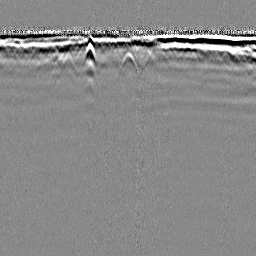cavity: (118, 50, 138, 71)
